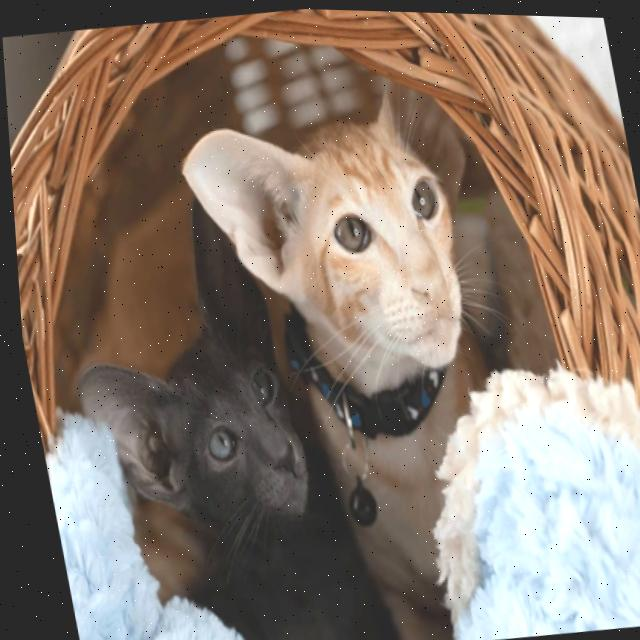Oriental: (163, 43, 552, 640), (31, 148, 362, 640)
